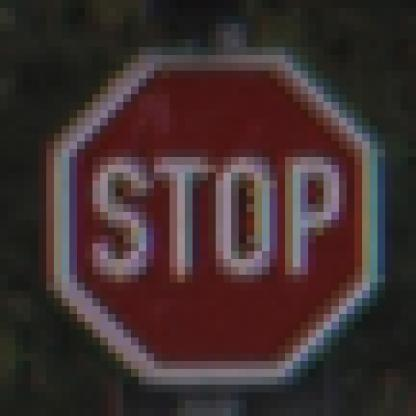Stop: (60, 51, 376, 380)
